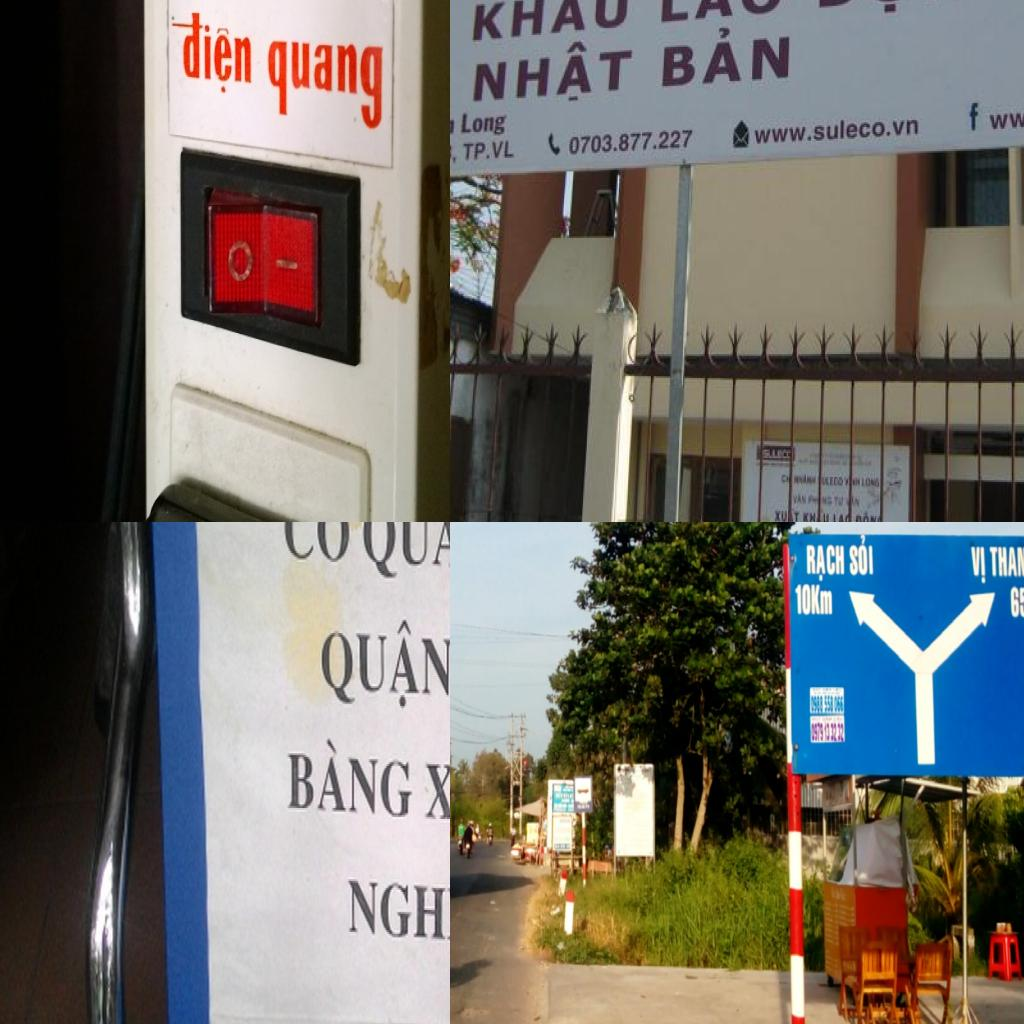text: (320, 613, 450, 718), (284, 734, 414, 824), (472, 36, 636, 106), (165, 2, 258, 103), (344, 864, 450, 946), (661, 23, 792, 88), (471, 0, 629, 41), (754, 112, 920, 148), (356, 522, 450, 585), (815, 0, 1024, 23), (568, 128, 694, 158), (281, 522, 352, 569), (659, 0, 785, 24), (422, 757, 450, 830), (804, 542, 847, 583), (461, 139, 518, 163), (462, 110, 508, 139), (986, 545, 1024, 579), (848, 534, 874, 578), (968, 546, 988, 585), (812, 583, 834, 616), (810, 722, 844, 741), (793, 584, 811, 616), (1008, 586, 1024, 618), (968, 100, 980, 132), (861, 475, 881, 489), (810, 695, 824, 714), (856, 511, 879, 522), (800, 510, 818, 522), (834, 696, 844, 715), (774, 509, 788, 522), (832, 512, 850, 522), (824, 695, 834, 713), (832, 496, 846, 508), (450, 142, 457, 164), (793, 511, 802, 522), (780, 474, 787, 486), (822, 512, 830, 522)
